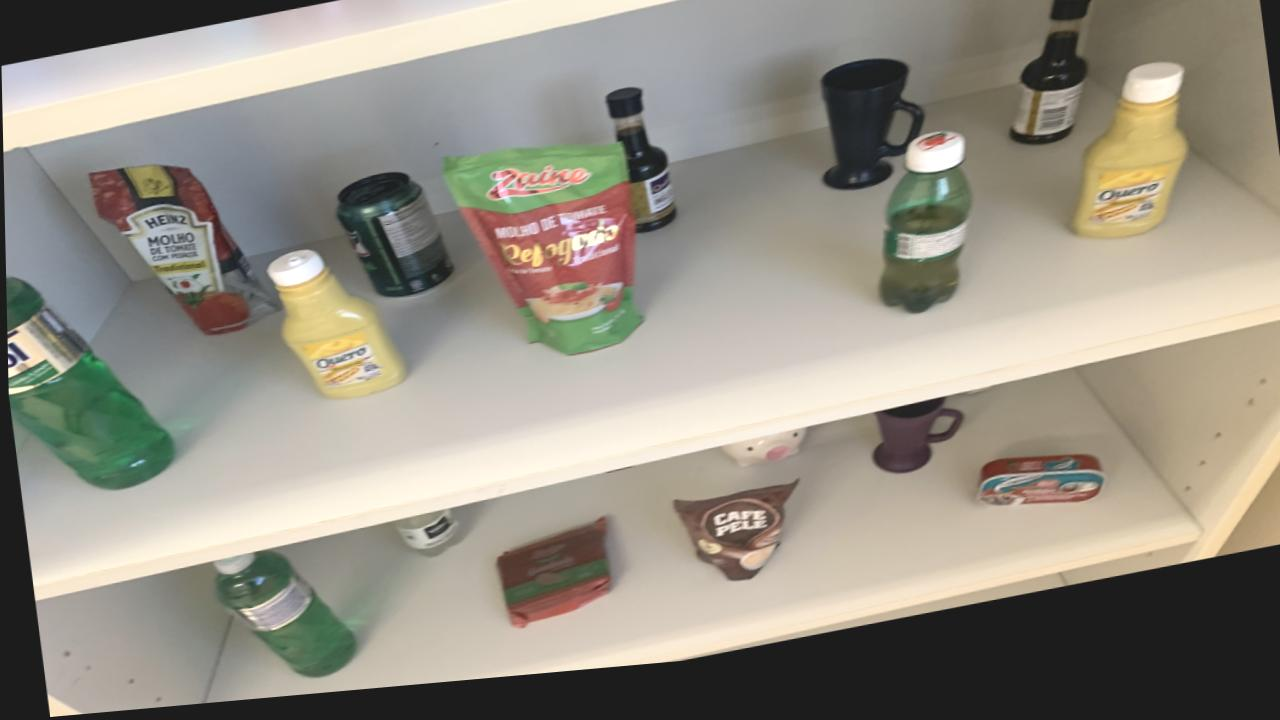Coffee-Pantry_Items: (671, 494, 796, 594)
Detergent-Cleanup_Items: (5, 277, 172, 491), (211, 555, 353, 682)
English_Sauce-Pantry_Items: (1009, 9, 1091, 164), (605, 98, 676, 245)
Guarana-Drinks: (877, 148, 971, 329)
Guarana_Can-Drinks: (335, 178, 452, 304)
Guava-Snacks: (495, 528, 609, 637)
Mustard-Pantry_Items: (266, 255, 404, 404), (1071, 83, 1187, 259)
Pig_Safe-Miscellaneous: (720, 443, 805, 480)
Soda-Drinks: (391, 517, 456, 564)
Tomato_Sauce-Pantry_Items: (443, 154, 641, 365), (89, 166, 278, 338)
Tuna_Can-Pantry_Items: (975, 473, 1103, 524)
